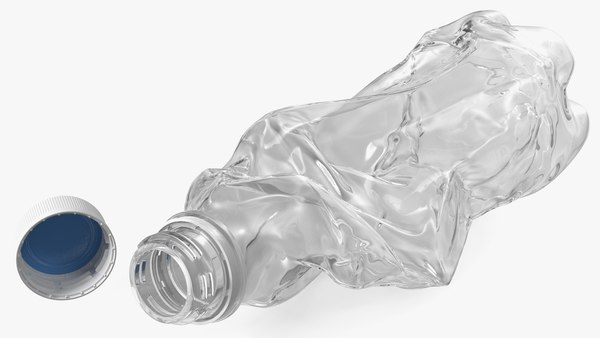plastic: (128, 11, 591, 326)
